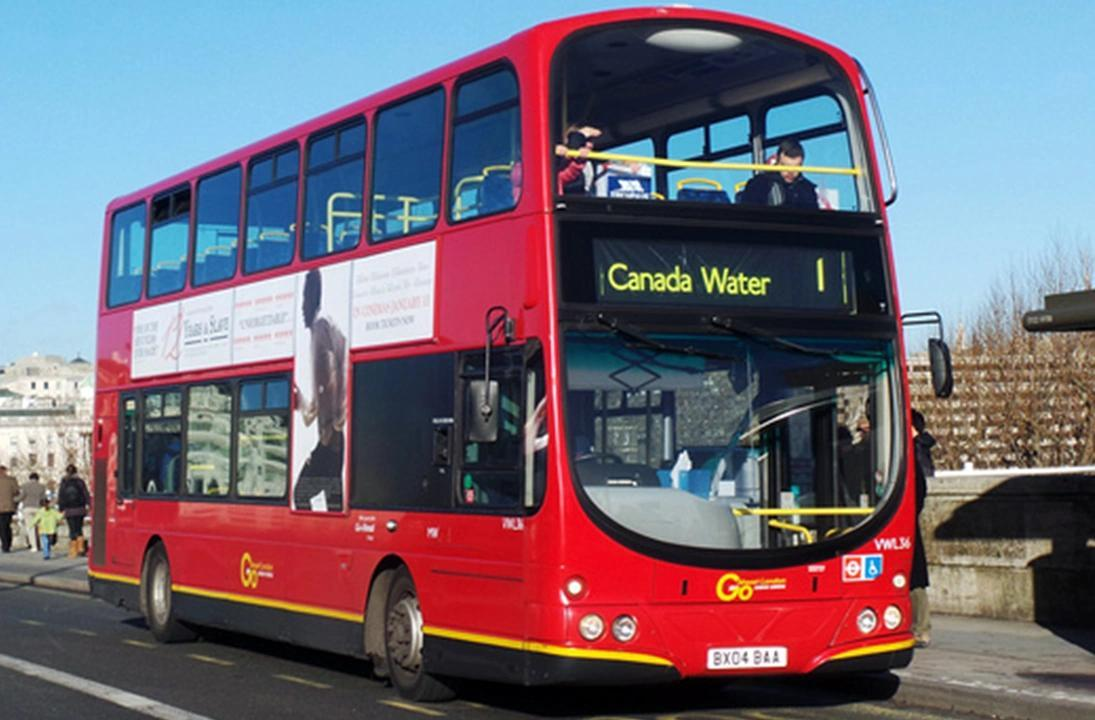Bus: (84, 7, 933, 700)
